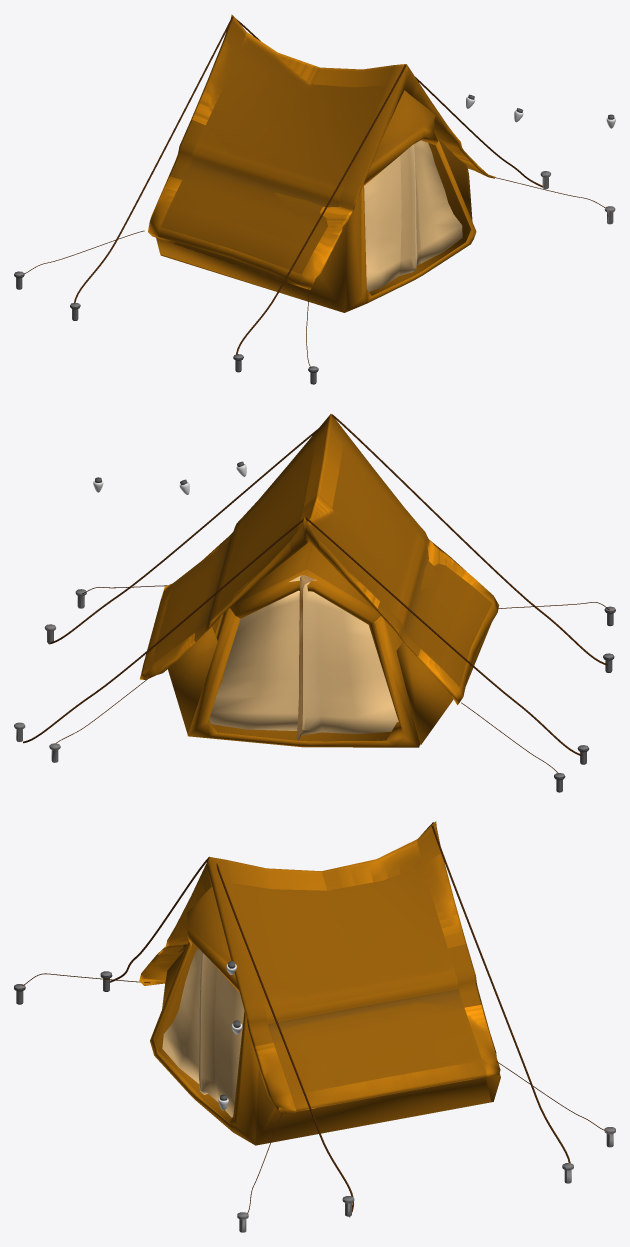
The model's file is tent99.fbx.
3 views of the same model, one above another, from view 1: azimuth 30°, elevation 25°; view 2: azimuth 150°, elevation 25°; view 3: azimuth 270°, elevation 25° (orthographic). The views are drawn at different scales.
Visible parts, largest first — view 1: Cube.005, Cube.003, Cube.006, BézierCurve.015, Cylinder.014; view 2: Cube.005, Cube.006, Cube.003, BézierCurve.015, Cylinder.014; view 3: Cube.005, Cube.003, Cube.006, BézierCurve.015, Cylinder.014.
Part boxes in pixels (x1=…): Cube.005: x1=148, y1=14, x2=495, y2=289; Cube.003: x1=156, y1=90, x2=476, y2=312; Cube.006: x1=364, y1=140, x2=462, y2=291; BézierCurve.015: x1=24, y1=16, x2=605, y2=367; Cylinder.014: x1=14, y1=171, x2=615, y2=384; Cube.005: x1=140, y1=414, x2=499, y2=705; Cube.006: x1=209, y1=575, x2=398, y2=740; Cube.003: x1=168, y1=541, x2=453, y2=747; BézierCurve.015: x1=23, y1=414, x2=609, y2=772; Cylinder.014: x1=14, y1=589, x2=615, y2=792; Cube.005: x1=139, y1=821, x2=500, y2=1113; Cube.003: x1=150, y1=886, x2=500, y2=1145; Cube.006: x1=162, y1=947, x2=244, y2=1117; BézierCurve.015: x1=22, y1=822, x2=604, y2=1217; Cylinder.014: x1=14, y1=971, x2=615, y2=1232.
Size of the model in its own units: 1433 by 582 by 1248.
Materials: 6 (4 with a texture image).
